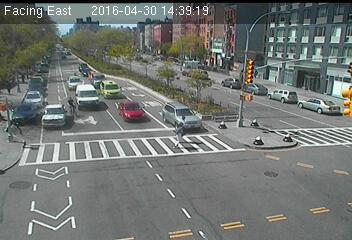neg: (166, 181, 184, 204), (62, 95, 79, 117), (99, 36, 114, 55), (121, 98, 135, 118), (285, 88, 299, 106), (279, 179, 292, 196), (115, 7, 127, 22), (322, 49, 333, 64), (167, 78, 178, 93), (44, 10, 55, 24), (83, 95, 93, 108), (13, 26, 23, 39), (202, 7, 211, 19)
pos: (171, 120, 192, 148), (4, 107, 22, 131)
